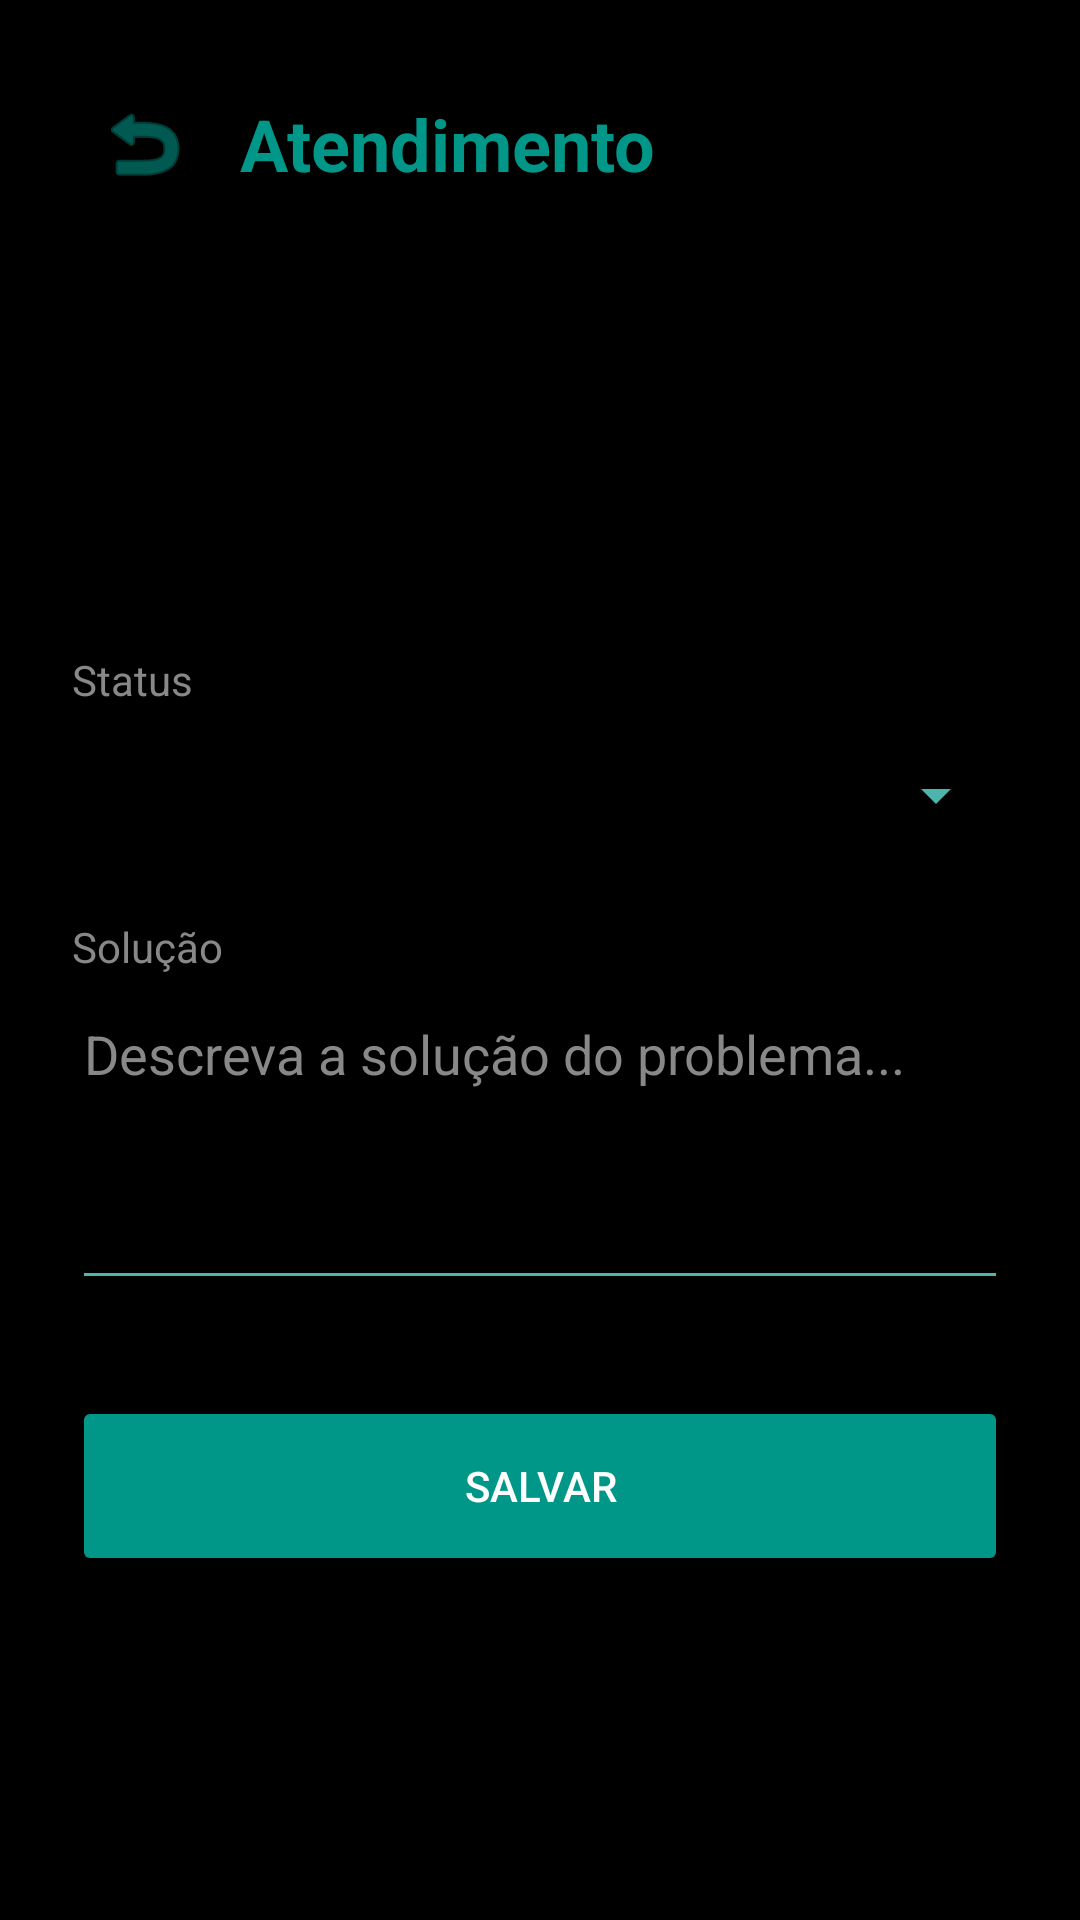

Where icons sit on this 1080px x 1920px app screen, as (x1, y1, x2, y2):
Voltar: (111, 114, 180, 176)
